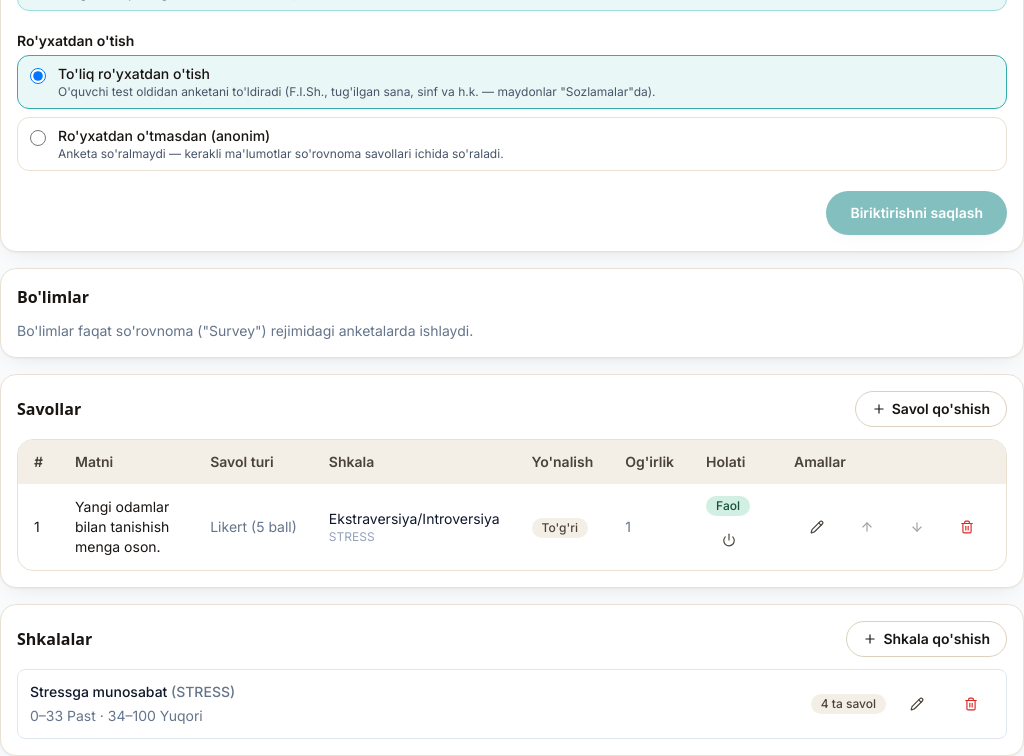
CatalogTestDetailPage — `Custom` test › kasrli chegara kiritilsa saqlash bloklanadi va sabab ko'rsatiladi
(page scrolled)
Click the button named "STRESS shkalasini tahrirlash": [917, 704] box [894, 686, 940, 722]
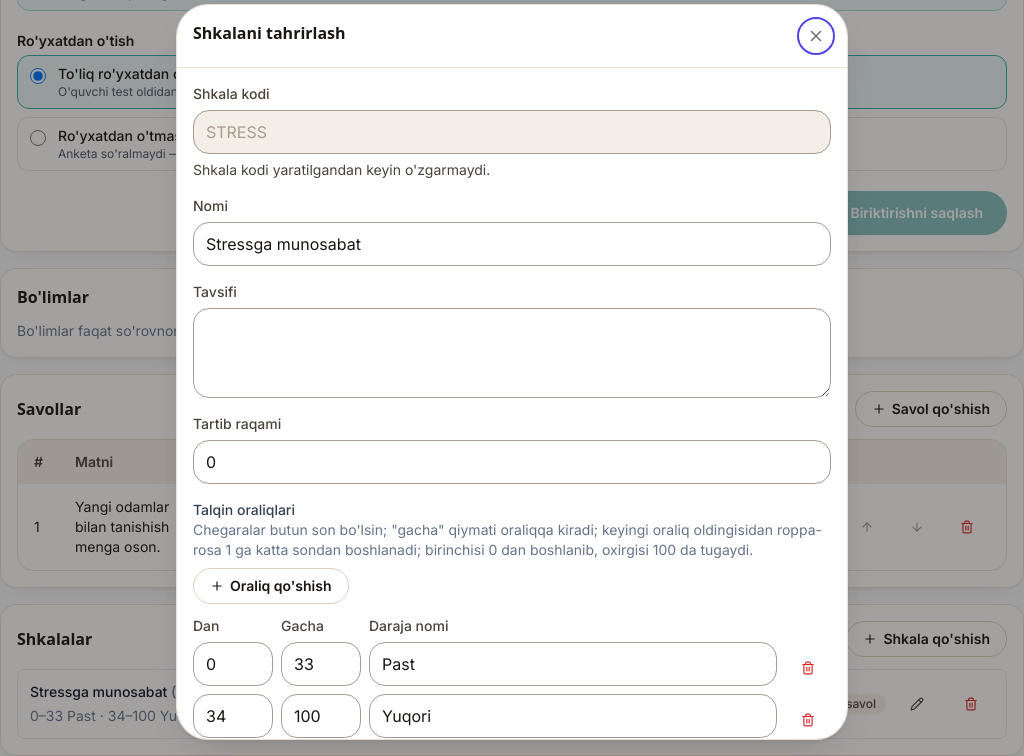
Replace the text in the number field named "1-oraliq: gacha" with "33.3": [321, 664] box [281, 642, 361, 686]
(page scrolled)
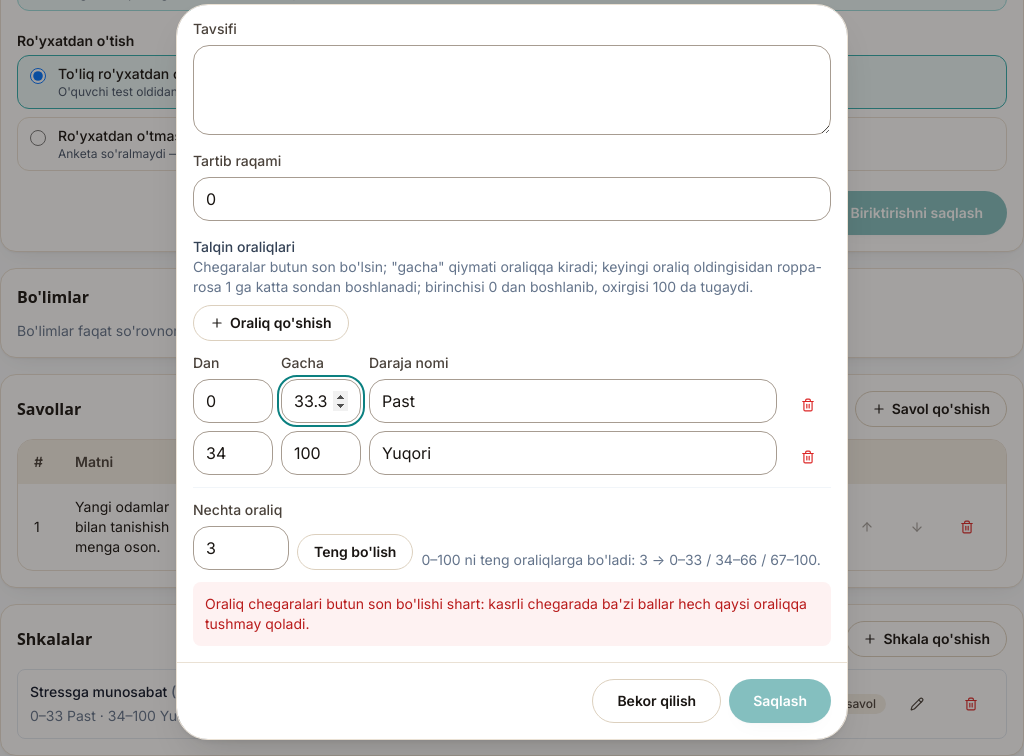
Expected: the list item "Oraliq chegaralari butun son bo'lishi shart" is shown, [205, 595, 807, 632]
Expected: the button "Saqlash" is disabled, [729, 679, 831, 723]
